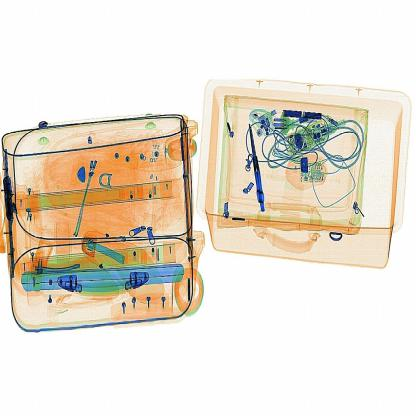gun: (244, 120, 270, 216)
